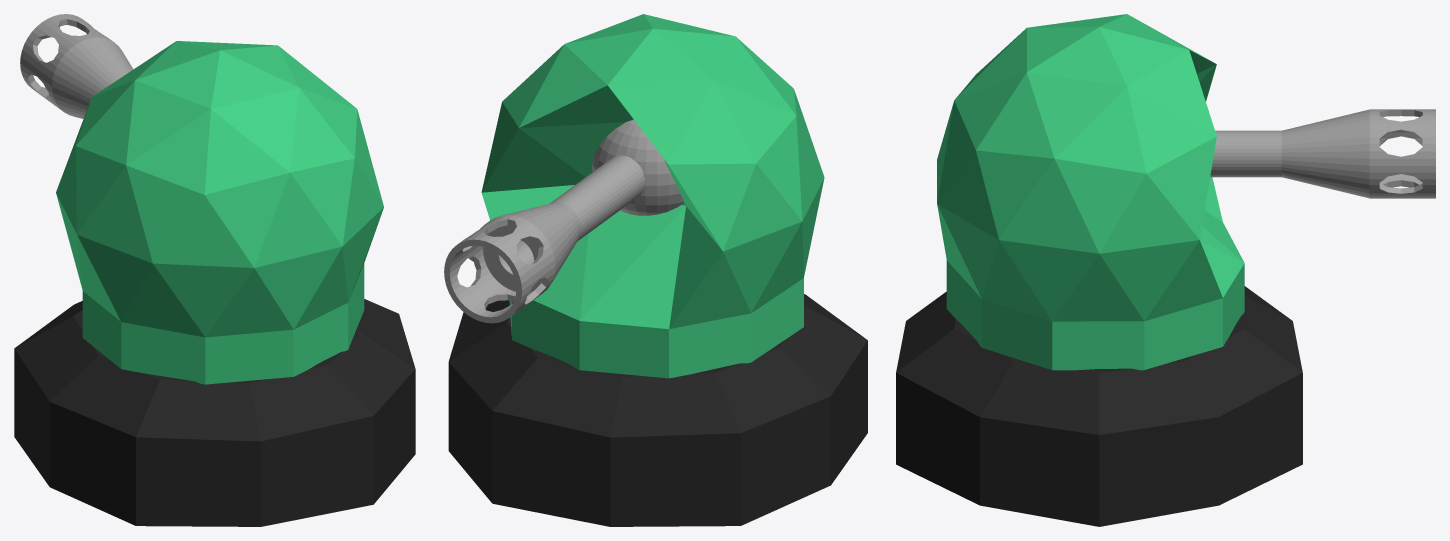
The model's file is Turret.fbx.
3 views of the same model, side by side, from view 1: azimuth 30°, elevation 25°; view 2: azimuth 150°, elevation 25°; view 3: azimuth 270°, elevation 25° (orthographic). The views are drawn at different scales.
Visible parts, largest first — view 1: Icosphere.004, Icosphere.005, Cylinder.002; view 2: Icosphere.004, Icosphere.005, Cylinder.002, Sphere.002; view 3: Icosphere.004, Icosphere.005, Cylinder.002.
Part boxes in pixels (x1=…): Icosphere.004: x1=56, y1=41, x2=383, y2=384; Icosphere.005: x1=14, y1=299, x2=415, y2=526; Cylinder.002: x1=20, y1=14, x2=133, y2=118; Icosphere.004: x1=481, y1=14, x2=824, y2=378; Icosphere.005: x1=448, y1=294, x2=867, y2=526; Cylinder.002: x1=444, y1=155, x2=644, y2=323; Sphere.002: x1=592, y1=119, x2=683, y2=215; Icosphere.004: x1=937, y1=14, x2=1244, y2=370; Icosphere.005: x1=896, y1=286, x2=1302, y2=526; Cylinder.002: x1=1210, y1=109, x2=1435, y2=198.
Bounding box in the file's own units: 244 × 265 × 316.
